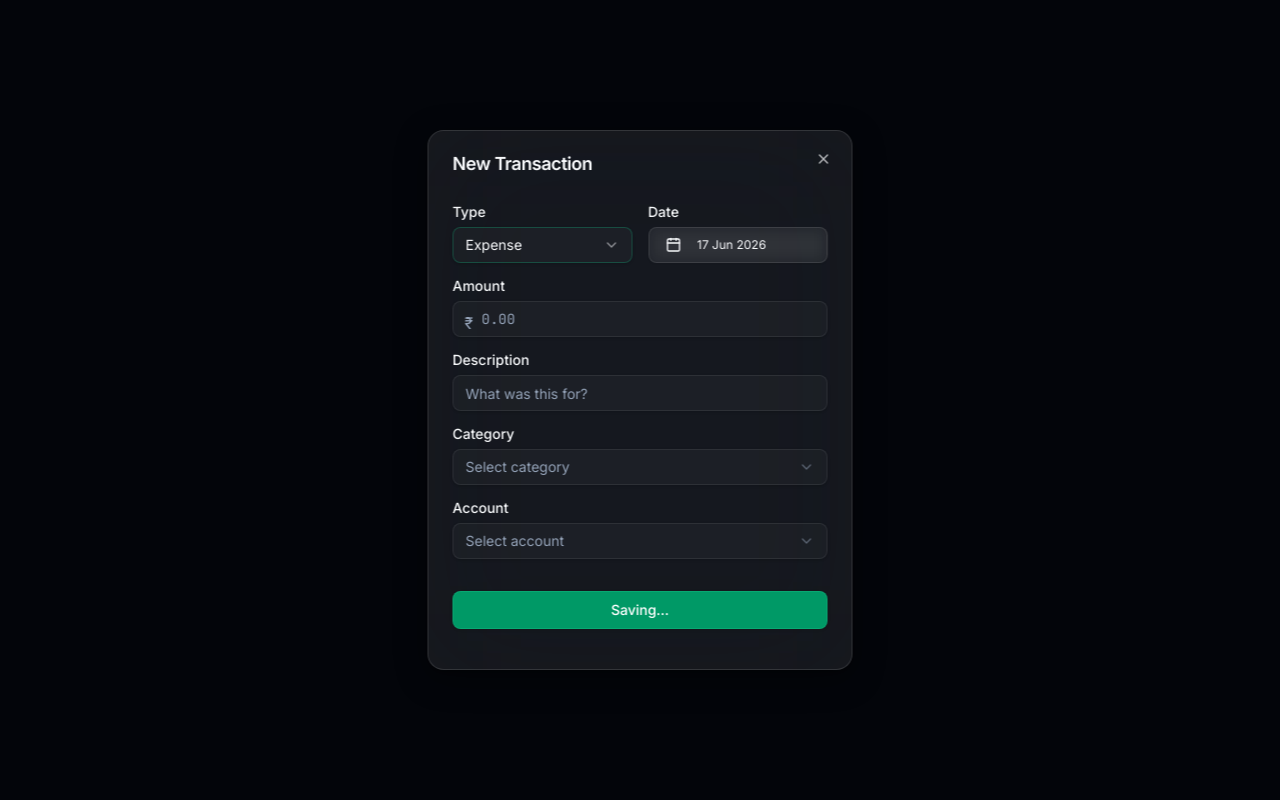
Test: CreateTransactionDialog › shows add category input when + Add Category is clicked
expect the text "Select category" is shown: met, box [466,457,570,477]
Click the dropdown "Select category" at (518, 466), box [452,449,828,485]
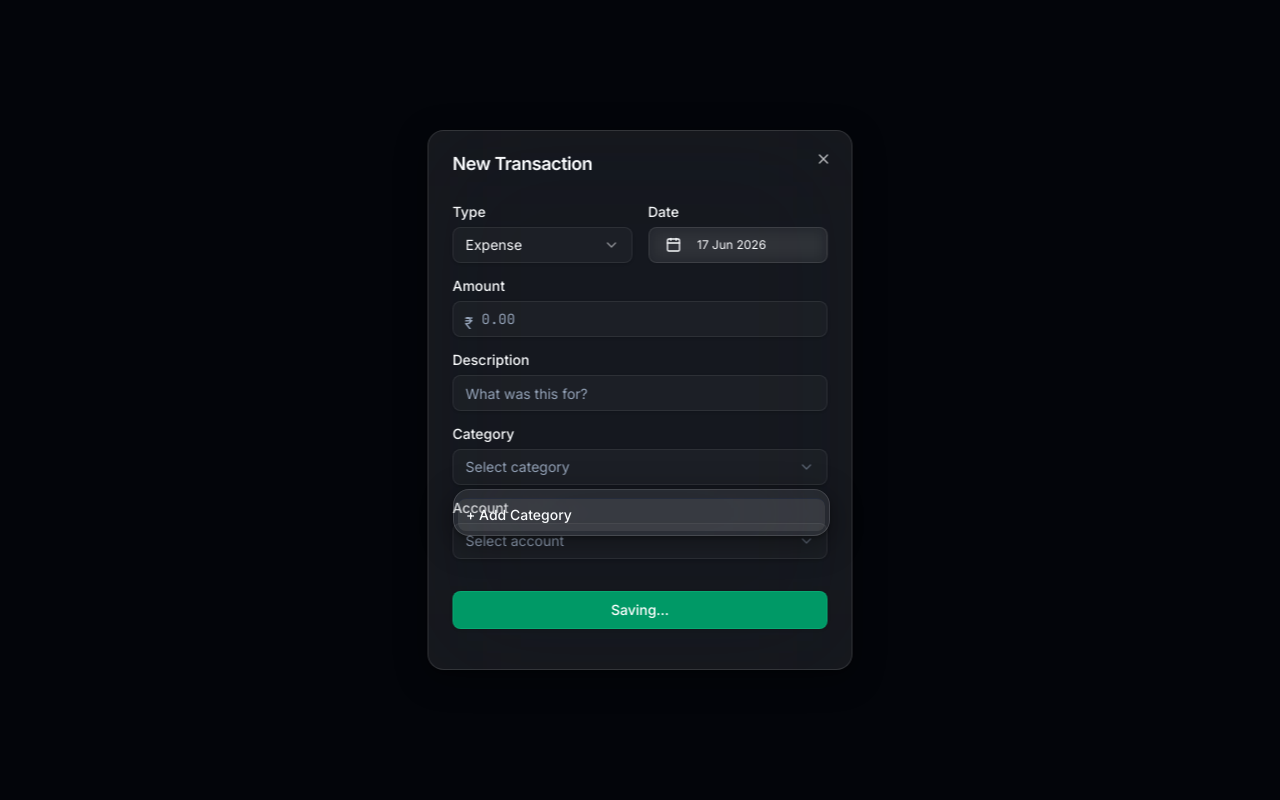
Click the option "+ Add Category" at (519, 514), box [458,498,825,531]
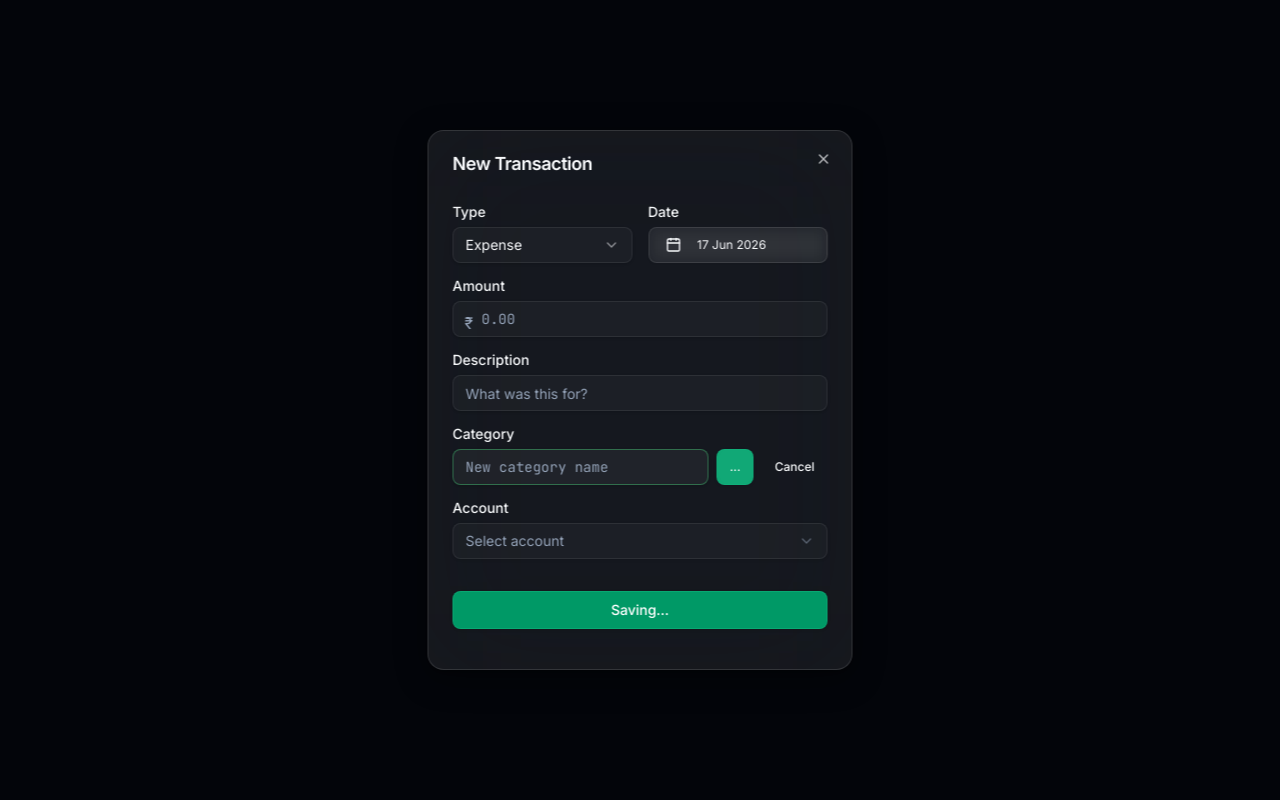
expect the field with placeholder "New category name" is shown: met, box [452,449,709,485]
